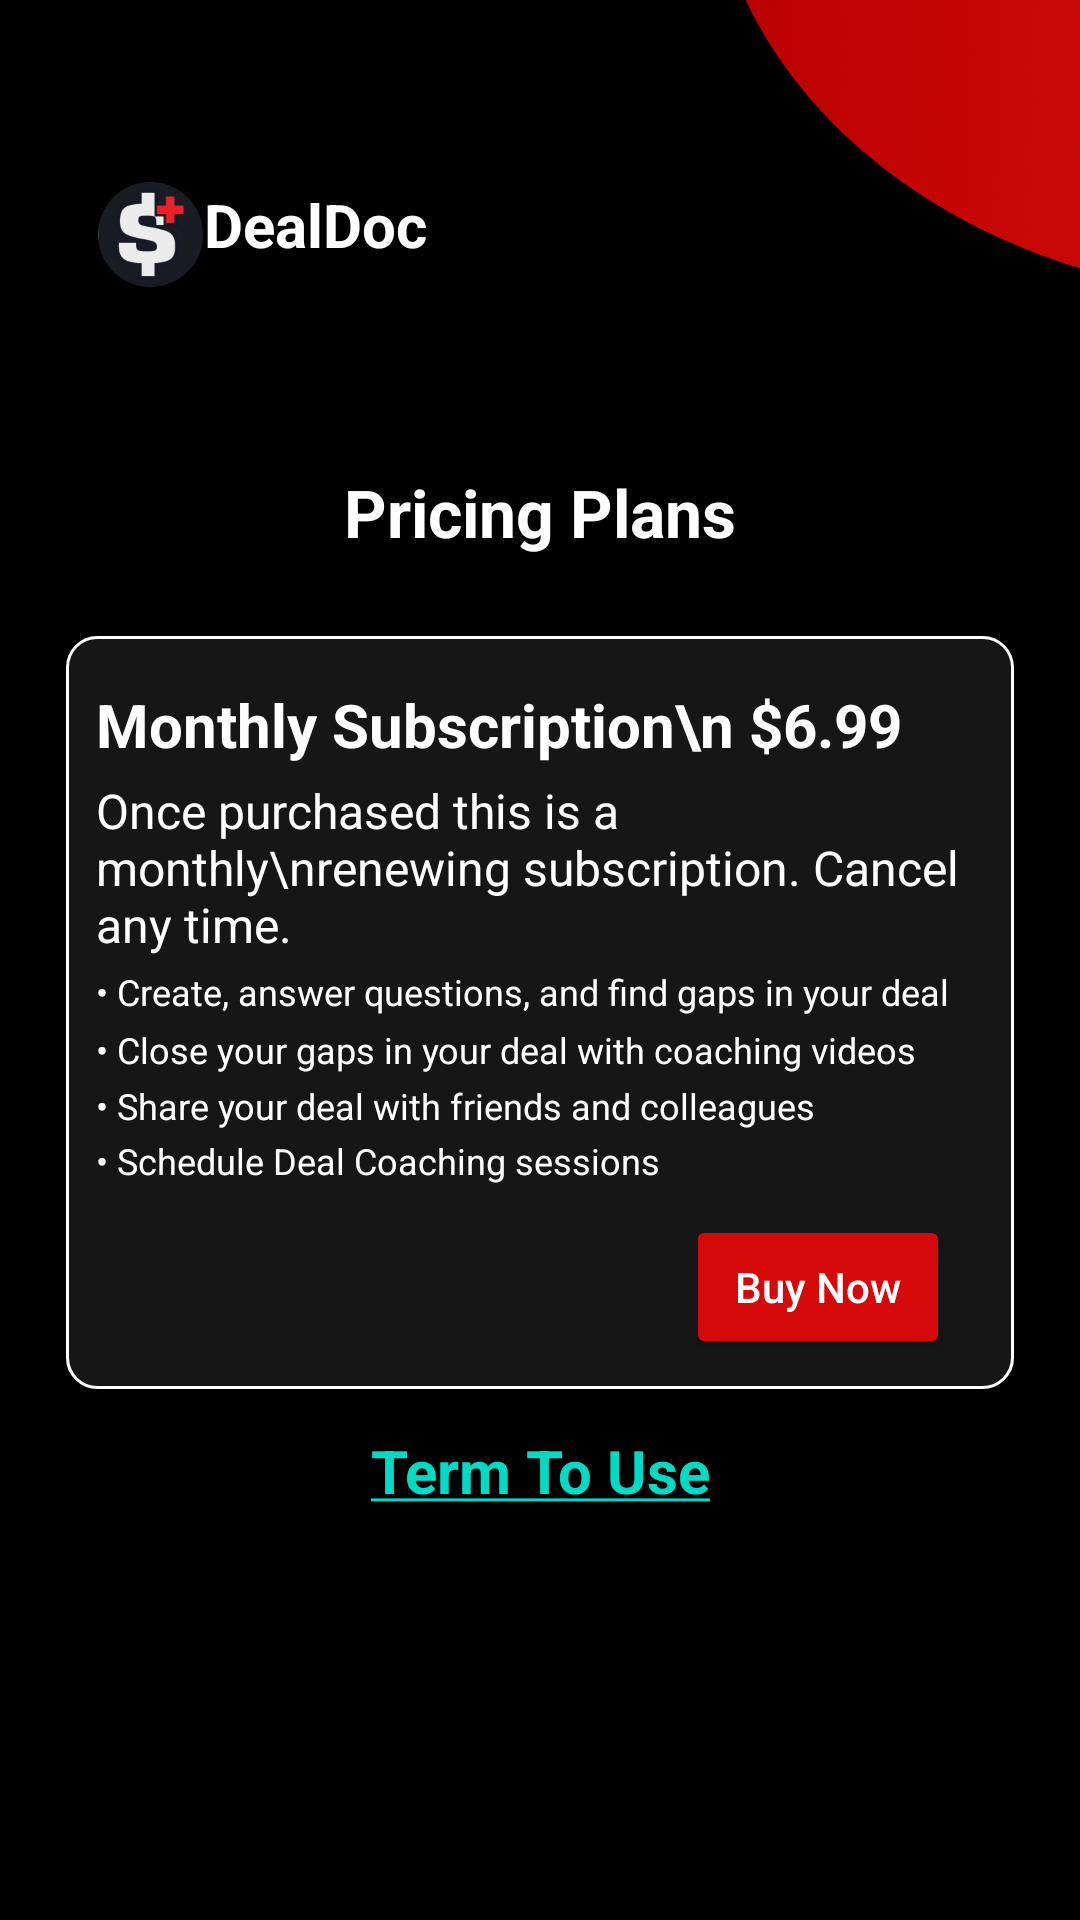

Named icons in this screenshot (1080 x 1920) and their centers, (x=x, y=y):
dollar: (x=150, y=234)
